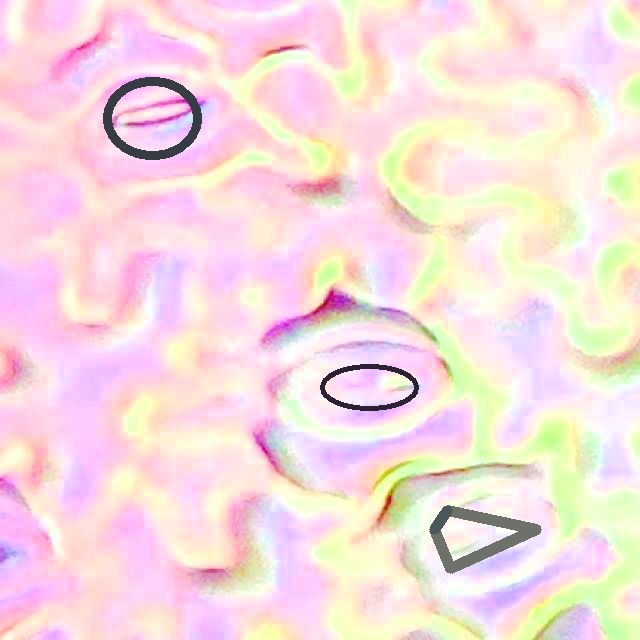close: (429, 505, 540, 572), (319, 363, 419, 411)
open: (102, 76, 203, 160)
